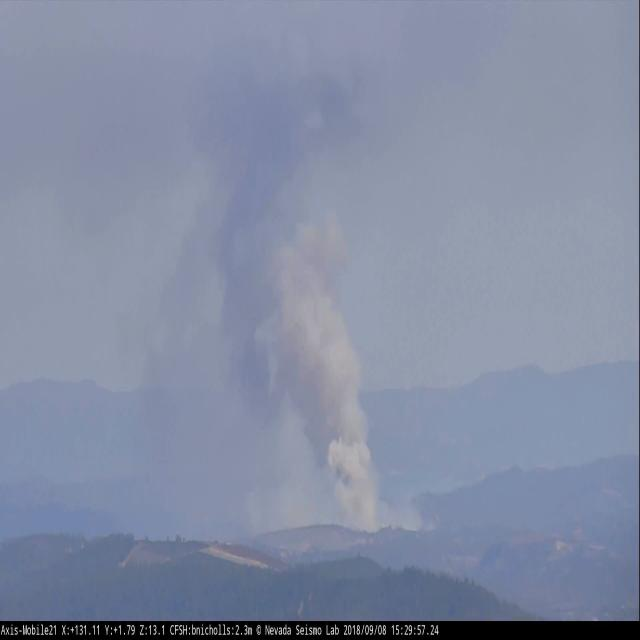smoke: (188, 56, 436, 534)
